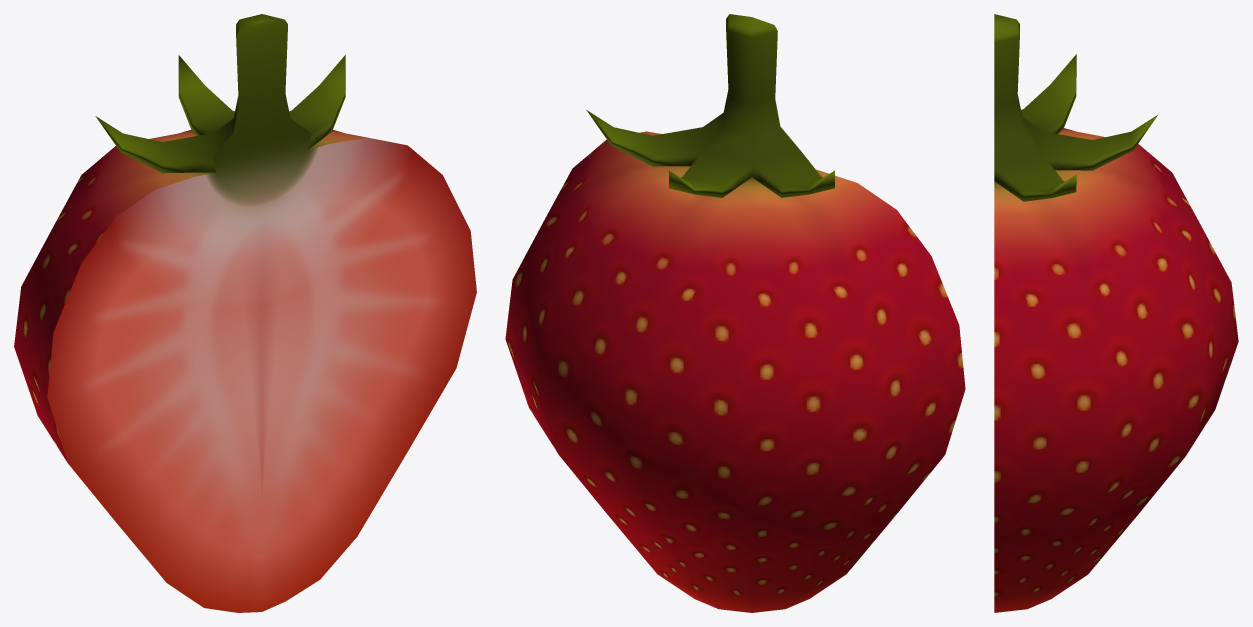
Rendered from Strawberry_Half_Front.fbx.
The picture shows the model from 3 angles, left to right: view 1: azimuth 30°, elevation 25°; view 2: azimuth 150°, elevation 25°; view 3: azimuth 270°, elevation 25°; orthographic projection.
Parts seen in each view (by area): view 1: Strawberry_Half_Front; view 2: Strawberry_Half_Front; view 3: Strawberry_Half_Front.
Part boxes in pixels (x1,y1,x2,y2): Strawberry_Half_Front: (14, 14, 476, 612); Strawberry_Half_Front: (505, 14, 965, 612); Strawberry_Half_Front: (994, 14, 1238, 612).
Size of the model in its own units: 1.06 by 1.38 by 0.528.
